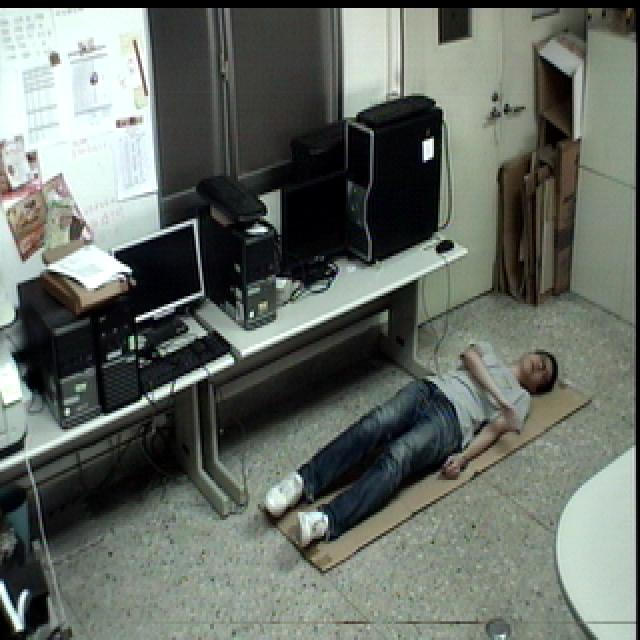lie: (248, 325, 568, 553)
